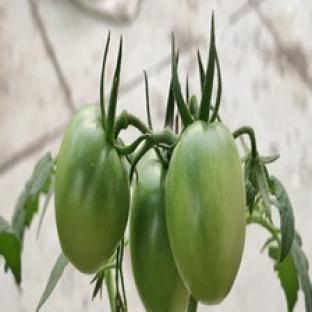Tomato: (166, 122, 245, 303), (55, 106, 129, 272), (130, 151, 188, 311)
